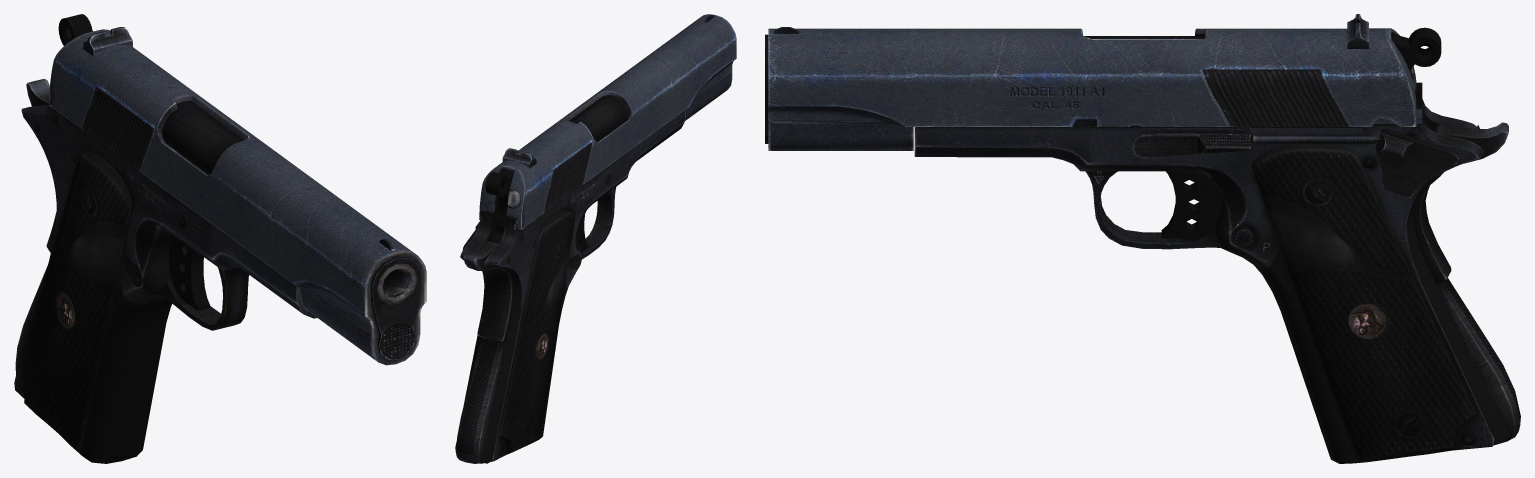
File: m1911-handgun.fbx
The picture shows the model from 3 angles, left to right: view 1: azimuth 30°, elevation 25°; view 2: azimuth 150°, elevation 25°; view 3: azimuth 270°, elevation 25°; orthographic projection. The views are drawn at different scales.
Parts seen in each view (by area): view 1: Handle, Slide, Trigger, Hammer; view 2: Handle, Slide, Hammer; view 3: Handle, Slide, Trigger, Hammer.
Part boxes in pixels (left/top/right/bottom): Handle: left=14, top=79, right=417, bottom=463; Slide: left=49, top=27, right=426, bottom=365; Trigger: left=169, top=236, right=210, bottom=310; Hammer: left=58, top=14, right=92, bottom=45; Handle: left=455, top=95, right=685, bottom=463; Slide: left=479, top=14, right=736, bottom=229; Hammer: left=485, top=168, right=514, bottom=232; Handle: left=914, top=36, right=1520, bottom=463; Slide: left=765, top=14, right=1416, bottom=150; Trigger: left=1161, top=171, right=1220, bottom=238; Hammer: left=1391, top=27, right=1441, bottom=71.
Size of the model in its own units: 7.64 by 37.93 by 60.32.
Materials: 2 (2 with a texture image).
